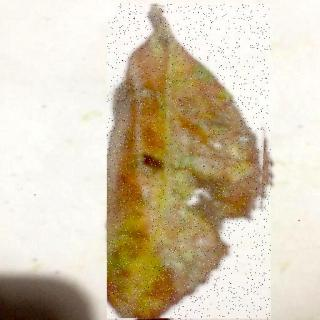Red Leaf Spot: (108, 5, 272, 320)
